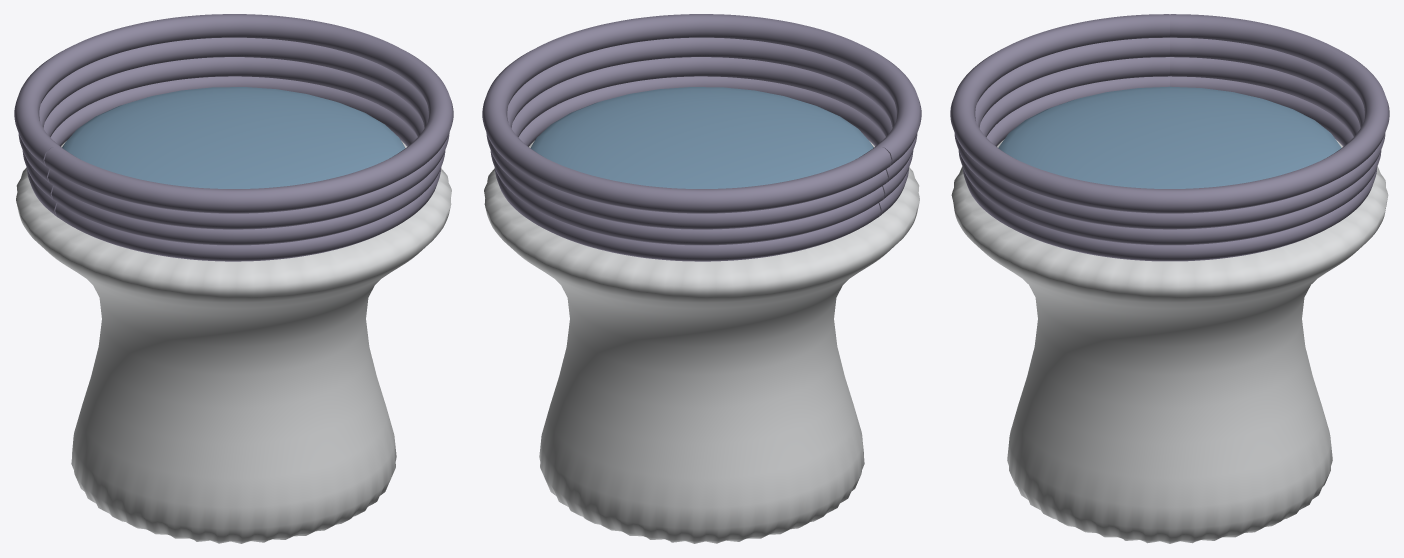
The model's file is LanternNest.glb.
3 renders of one model, left to right at view 1: azimuth 30°, elevation 25°; view 2: azimuth 150°, elevation 25°; view 3: azimuth 270°, elevation 25°, orthographic.
Parts seen in each view (by area): view 1: Nest pedestal, Nest soft moss, Nest woven silver branch.003, Nest woven silver branch.002, Nest woven silver branch.001, Nest woven silver branch; view 2: Nest pedestal, Nest soft moss, Nest woven silver branch.003, Nest woven silver branch.002, Nest woven silver branch.001, Nest woven silver branch; view 3: Nest pedestal, Nest soft moss, Nest woven silver branch.003, Nest woven silver branch.002, Nest woven silver branch.001, Nest woven silver branch.
Part boxes in pixels (bbox=[...]): Nest pedestal: bbox=[16, 140, 451, 543]; Nest soft moss: bbox=[62, 87, 405, 188]; Nest woven silver branch.003: bbox=[14, 14, 453, 213]; Nest woven silver branch.002: bbox=[18, 37, 449, 229]; Nest woven silver branch.001: bbox=[22, 57, 445, 245]; Nest woven silver branch: bbox=[27, 76, 441, 261]; Nest pedestal: bbox=[484, 140, 919, 543]; Nest soft moss: bbox=[530, 87, 873, 188]; Nest woven silver branch.003: bbox=[482, 14, 921, 213]; Nest woven silver branch.002: bbox=[486, 37, 917, 229]; Nest woven silver branch.001: bbox=[490, 57, 913, 245]; Nest woven silver branch: bbox=[494, 76, 908, 261]; Nest pedestal: bbox=[951, 139, 1388, 543]; Nest soft moss: bbox=[998, 86, 1341, 188]; Nest woven silver branch.003: bbox=[950, 14, 1389, 213]; Nest woven silver branch.002: bbox=[954, 37, 1385, 229]; Nest woven silver branch.001: bbox=[958, 57, 1381, 245]; Nest woven silver branch: bbox=[963, 76, 1376, 261].
Bounding box in the file's own units: 1.58 × 1.58 × 1.58.
